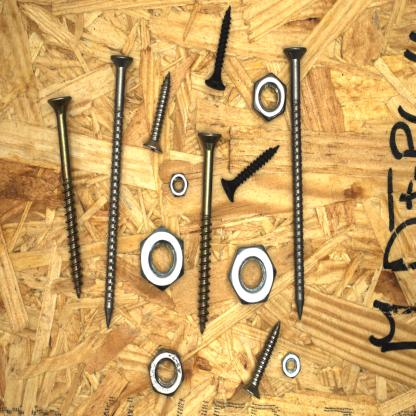screw: (100, 49, 137, 332), (43, 89, 87, 302), (280, 42, 309, 324), (192, 126, 226, 340), (217, 140, 285, 208), (241, 314, 286, 402), (203, 2, 236, 96), (140, 66, 174, 157)
